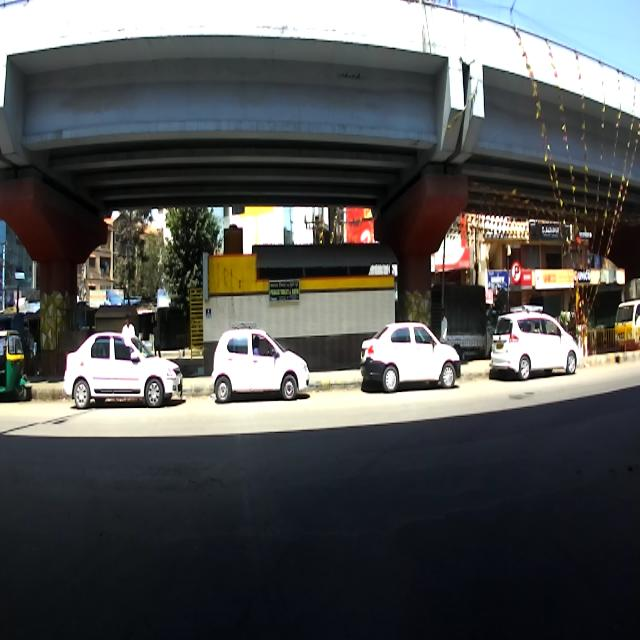car ahead at: (60, 329, 185, 424), (212, 326, 318, 415), (364, 320, 462, 406), (491, 304, 582, 388)
